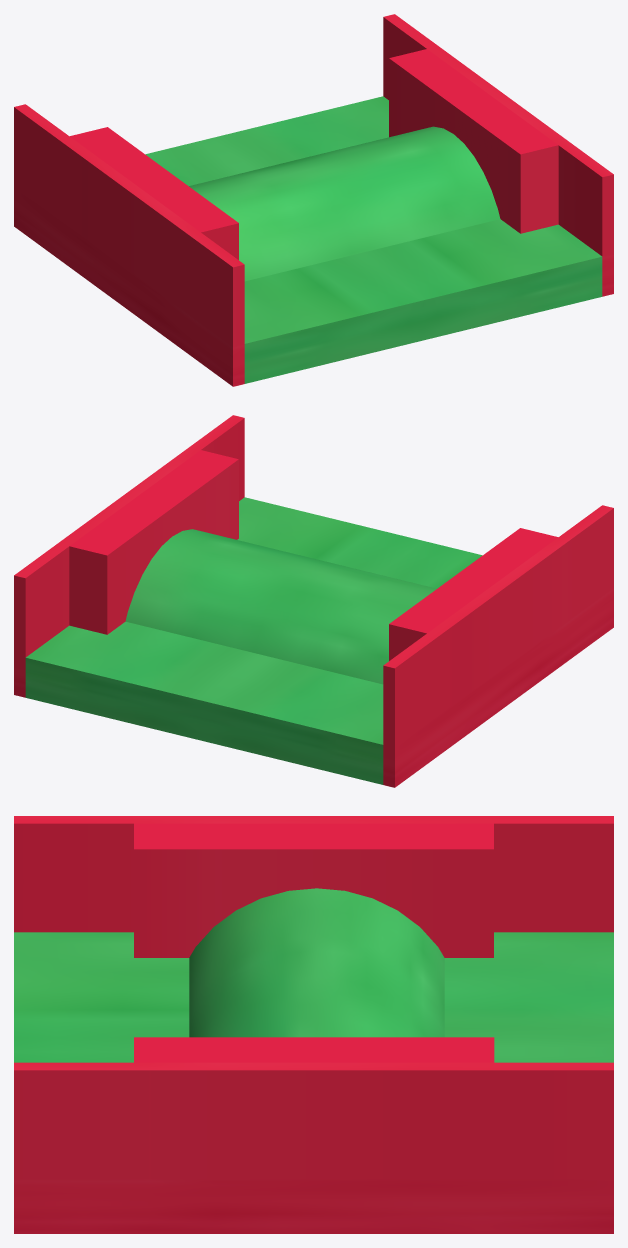
File: SimpleFence_lvl2.fbx
The picture shows the model from 3 angles, top to bottom: view 1: azimuth 30°, elevation 25°; view 2: azimuth 150°, elevation 25°; view 3: azimuth 270°, elevation 25°; orthographic projection. The views are drawn at different scales.
Parts seen in each view (by area): view 1: SimpleFence_lvl2, Fence; view 2: SimpleFence_lvl2, Fence; view 3: Fence, SimpleFence_lvl2.
Part boxes in pixels (x1,y1,x2,y2): SimpleFence_lvl2: (145,96,602,383); Fence: (14,14,613,386); SimpleFence_lvl2: (25,497,482,784); Fence: (14,415,613,787); Fence: (14,816,613,1233); SimpleFence_lvl2: (14,888,613,1062).
Size of the model in its own units: 100 by 30.07 by 99.98.
